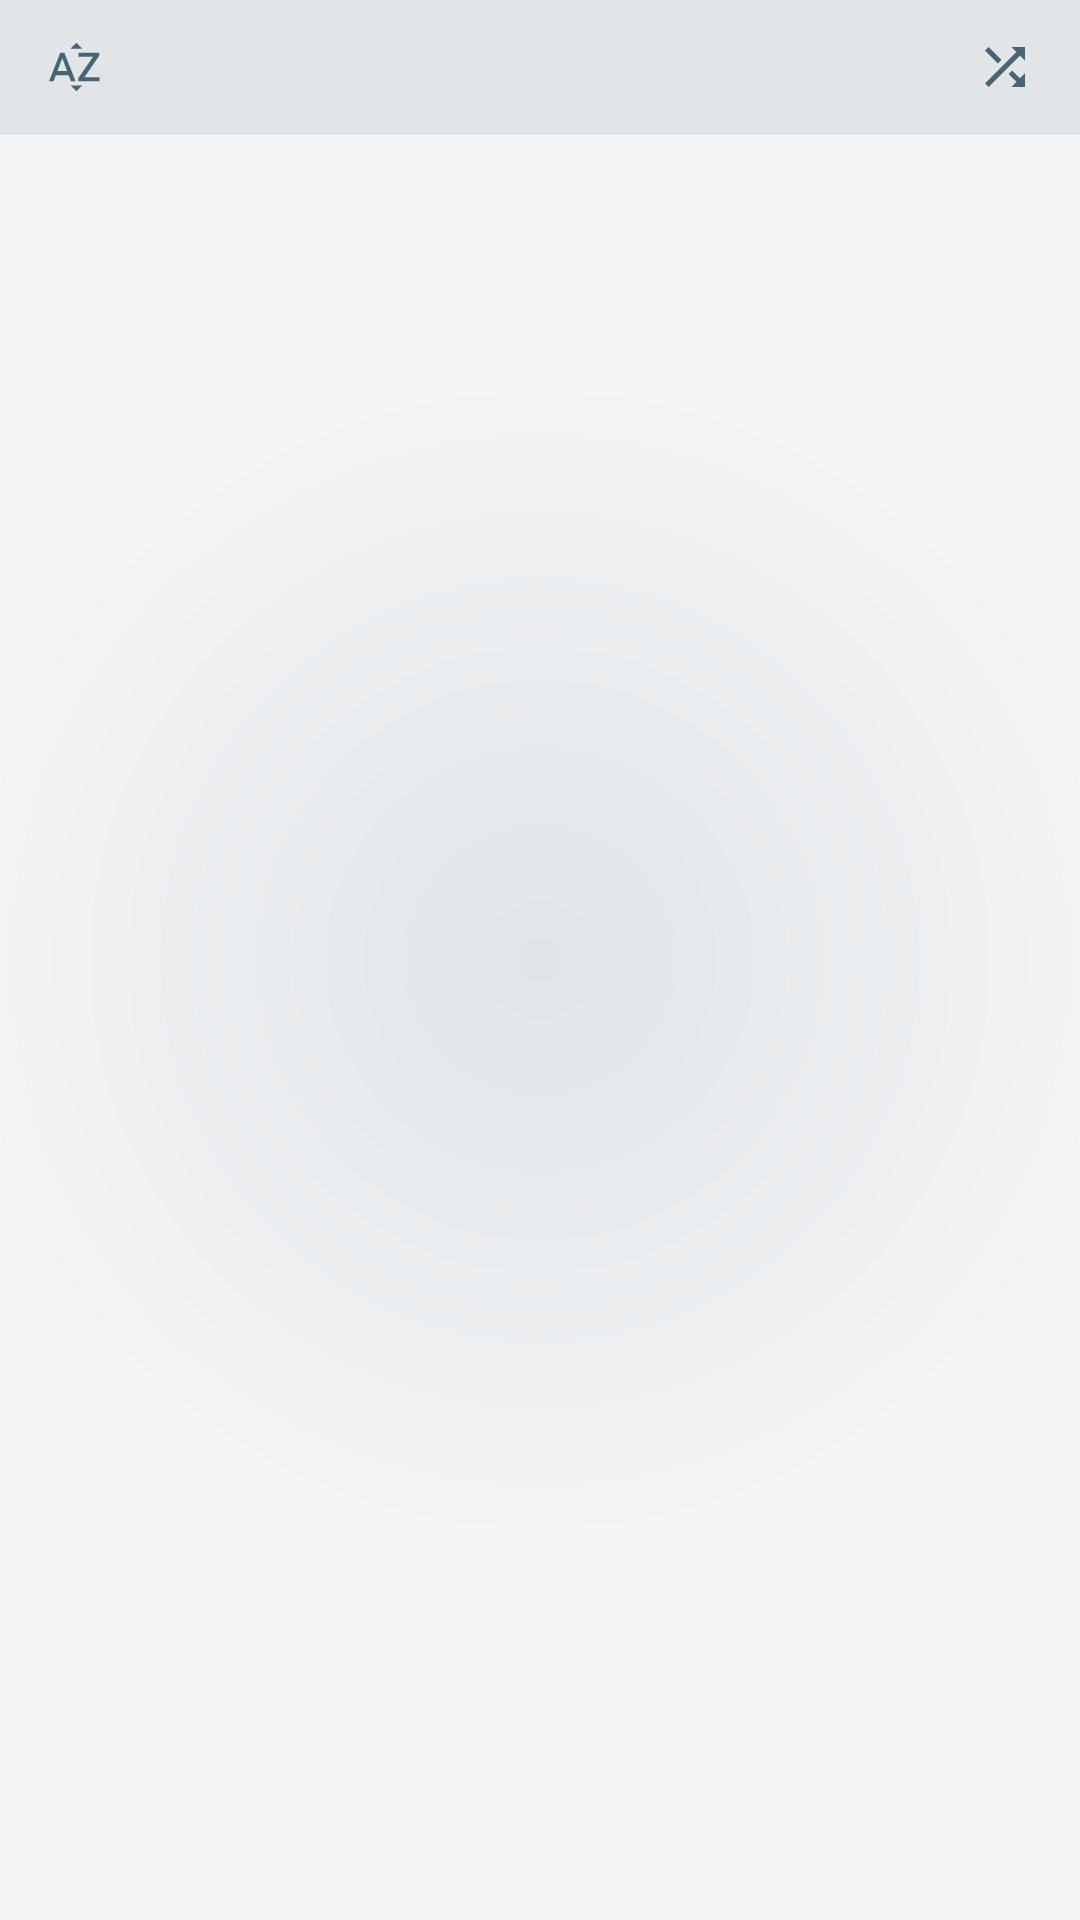

Screen size 1080w x 1920h. Icon name, then its center in pixels as point (x, y):
aleatorio: point (1005, 67)
ordenar: point (74, 67)
